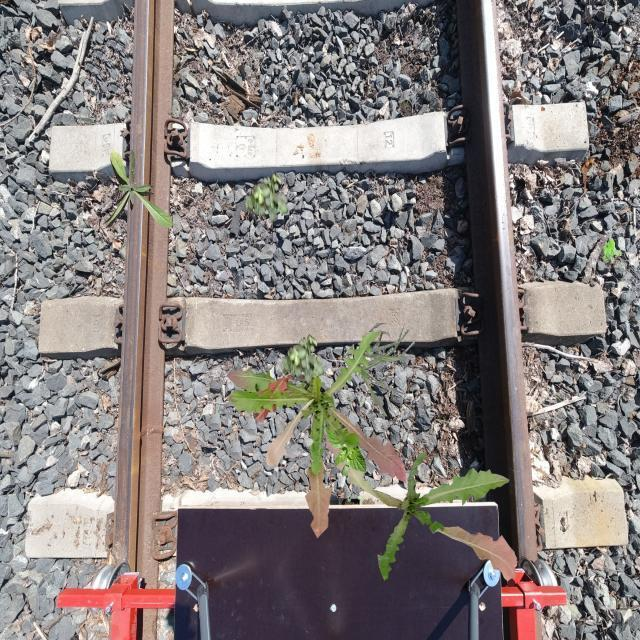Plant: (227, 330, 407, 538), (325, 430, 518, 582), (343, 323, 416, 416), (101, 149, 172, 230), (325, 423, 367, 476), (245, 173, 288, 223), (281, 334, 324, 384), (602, 239, 622, 264)
